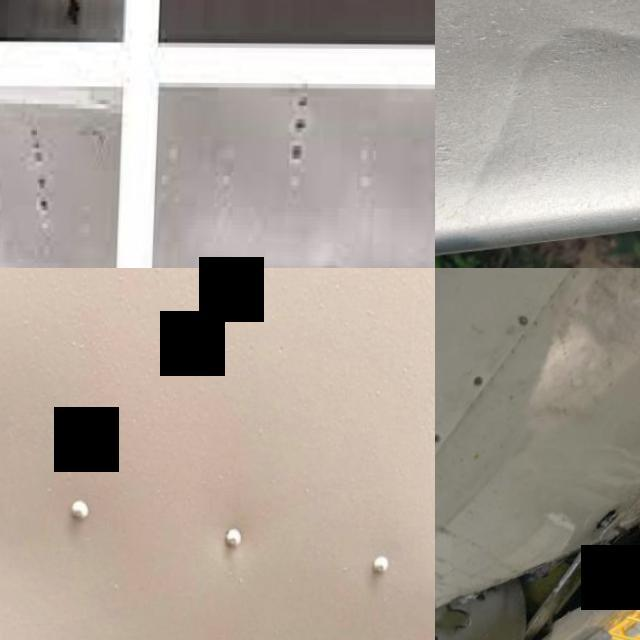Dent: (435, 25, 603, 213), (544, 0, 640, 97)
Missing_Fastener: (517, 314, 531, 326), (472, 376, 488, 386), (435, 432, 443, 443)
